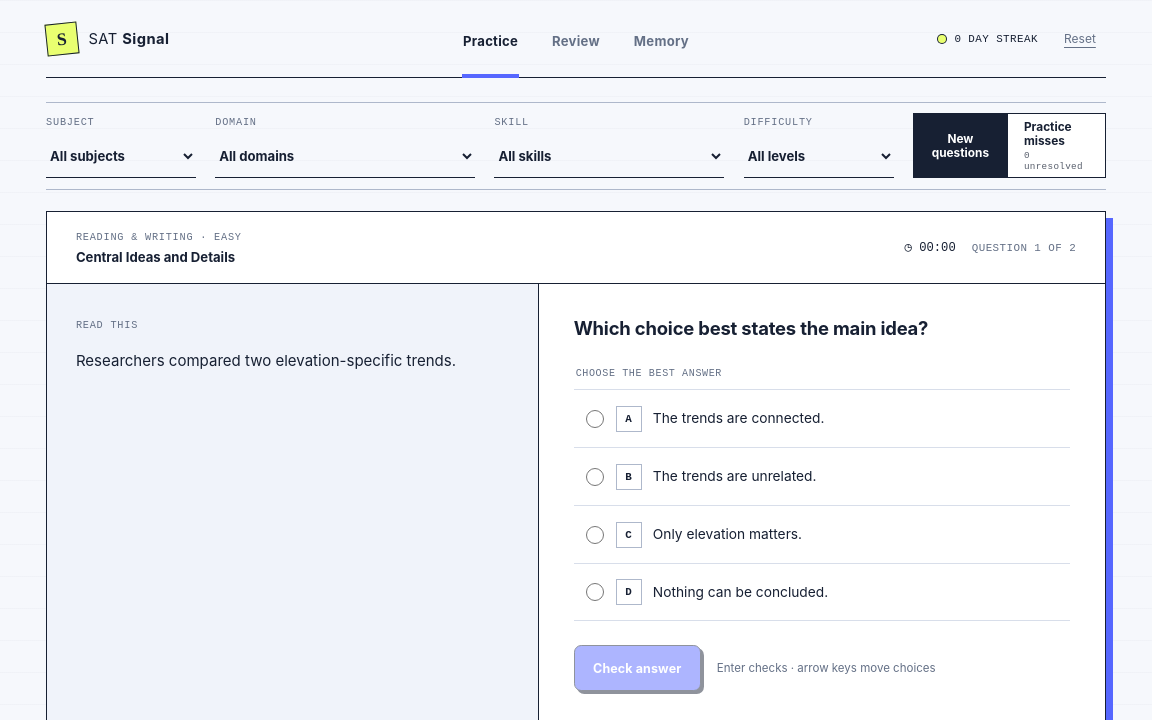
SAT practice app › keeps progress intact when the browser refuses the reset write
This screenshot has width=1152, height=720.
Expected: the heading "Which choice best states the main idea?" is shown, [574, 317, 928, 339]
Click the radio button labelled "A The trends are connected.".
click(595, 419)  # box [586, 410, 604, 428]
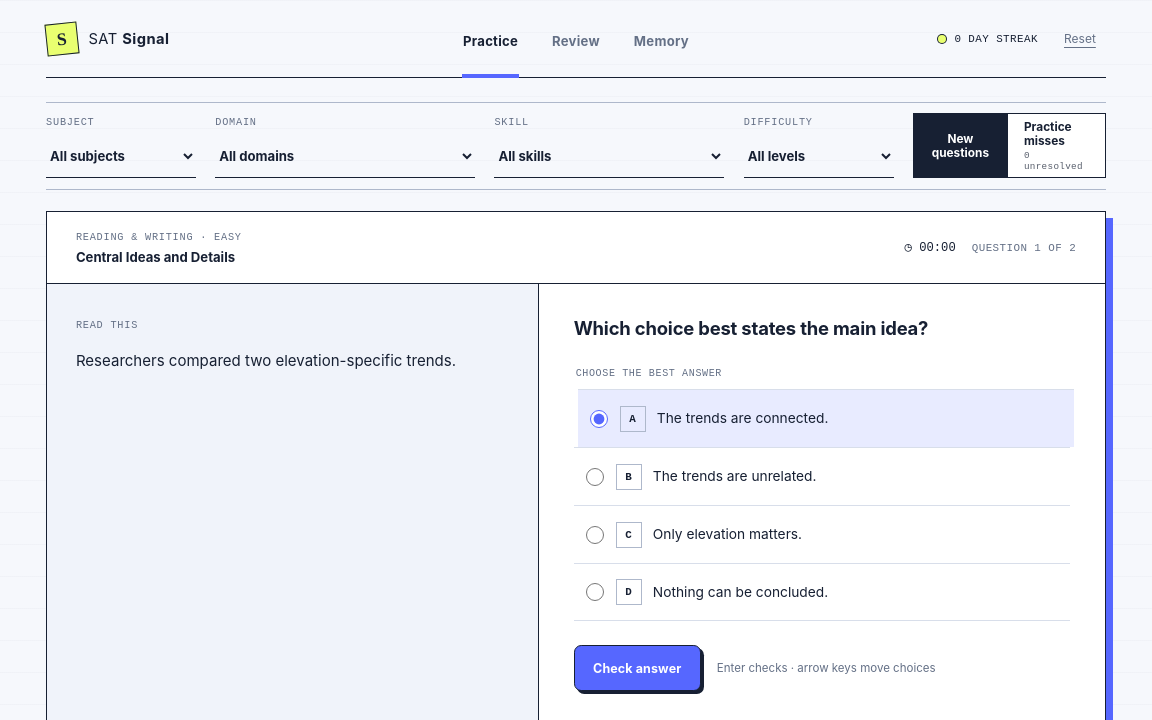
Click the button "Check answer".
click(637, 668)  # box [574, 645, 701, 691]
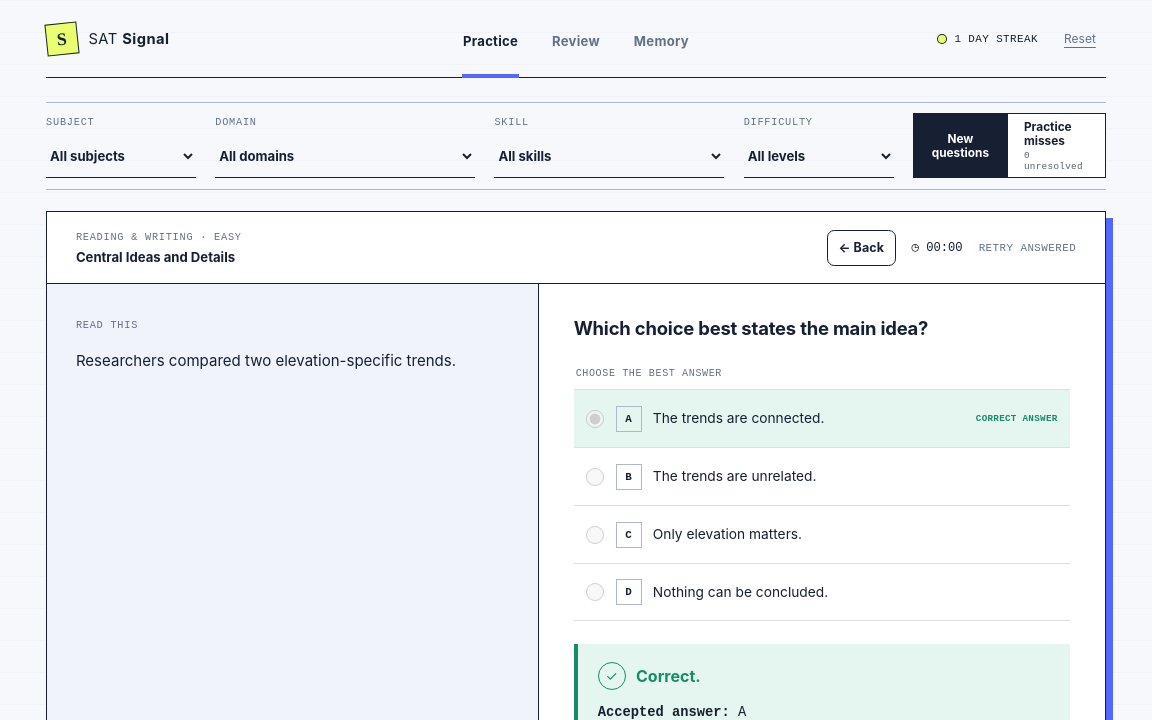
Click the button "Reset".
click(1080, 38)  # box [1054, 16, 1106, 60]
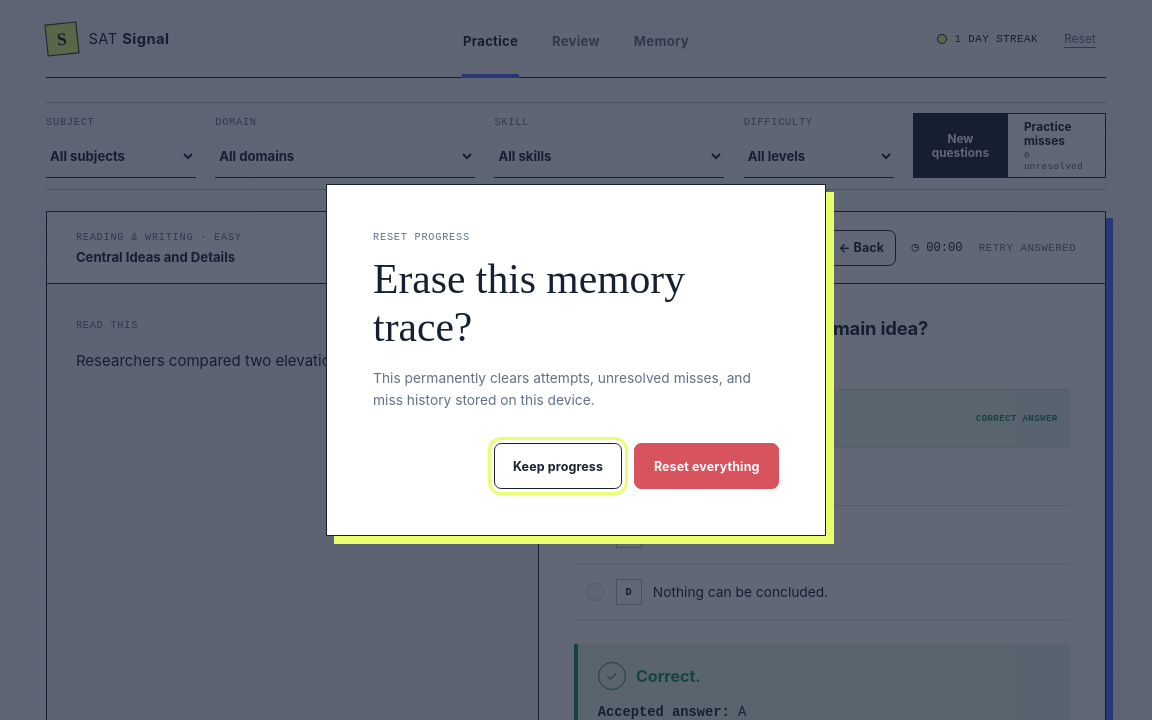
Click the button "Reset everything".
click(707, 466)  # box [634, 443, 779, 489]
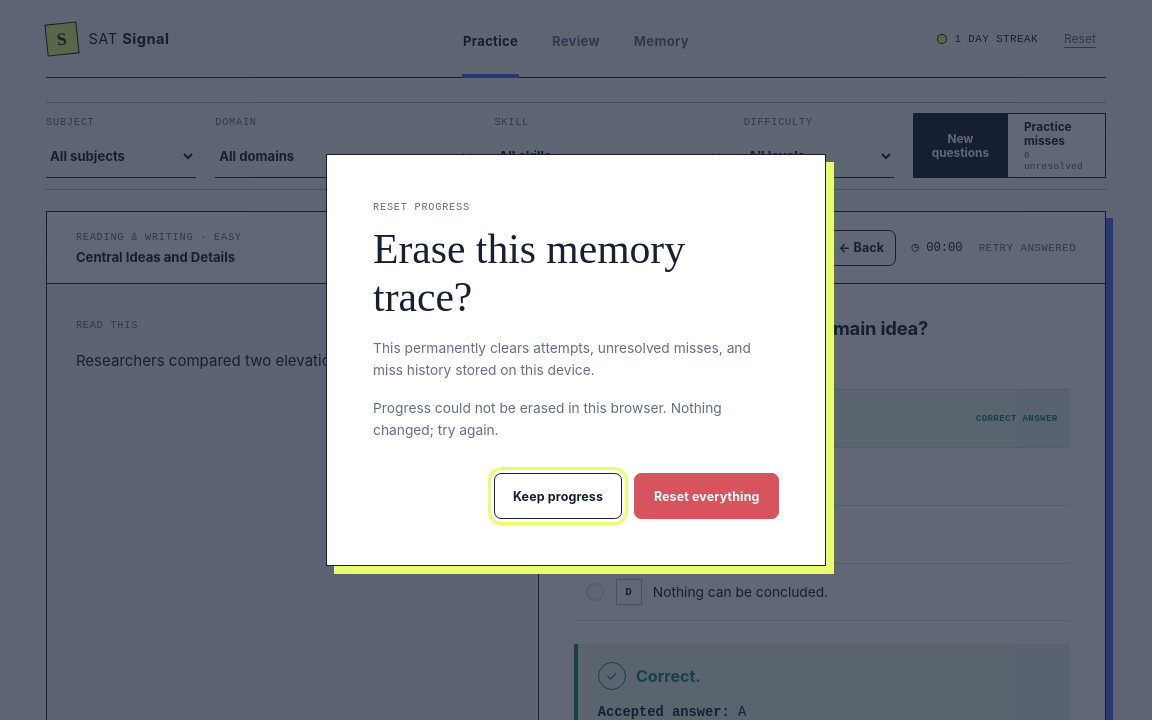
Now the dialog is shown, box [326, 154, 826, 566]
Now the message shows "Nothing changed", box [373, 400, 722, 438]
